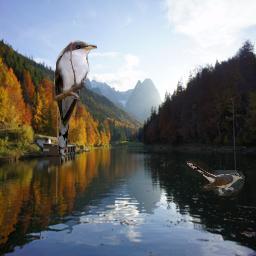Cuckoo: (53, 40, 97, 155), (186, 159, 245, 196)
